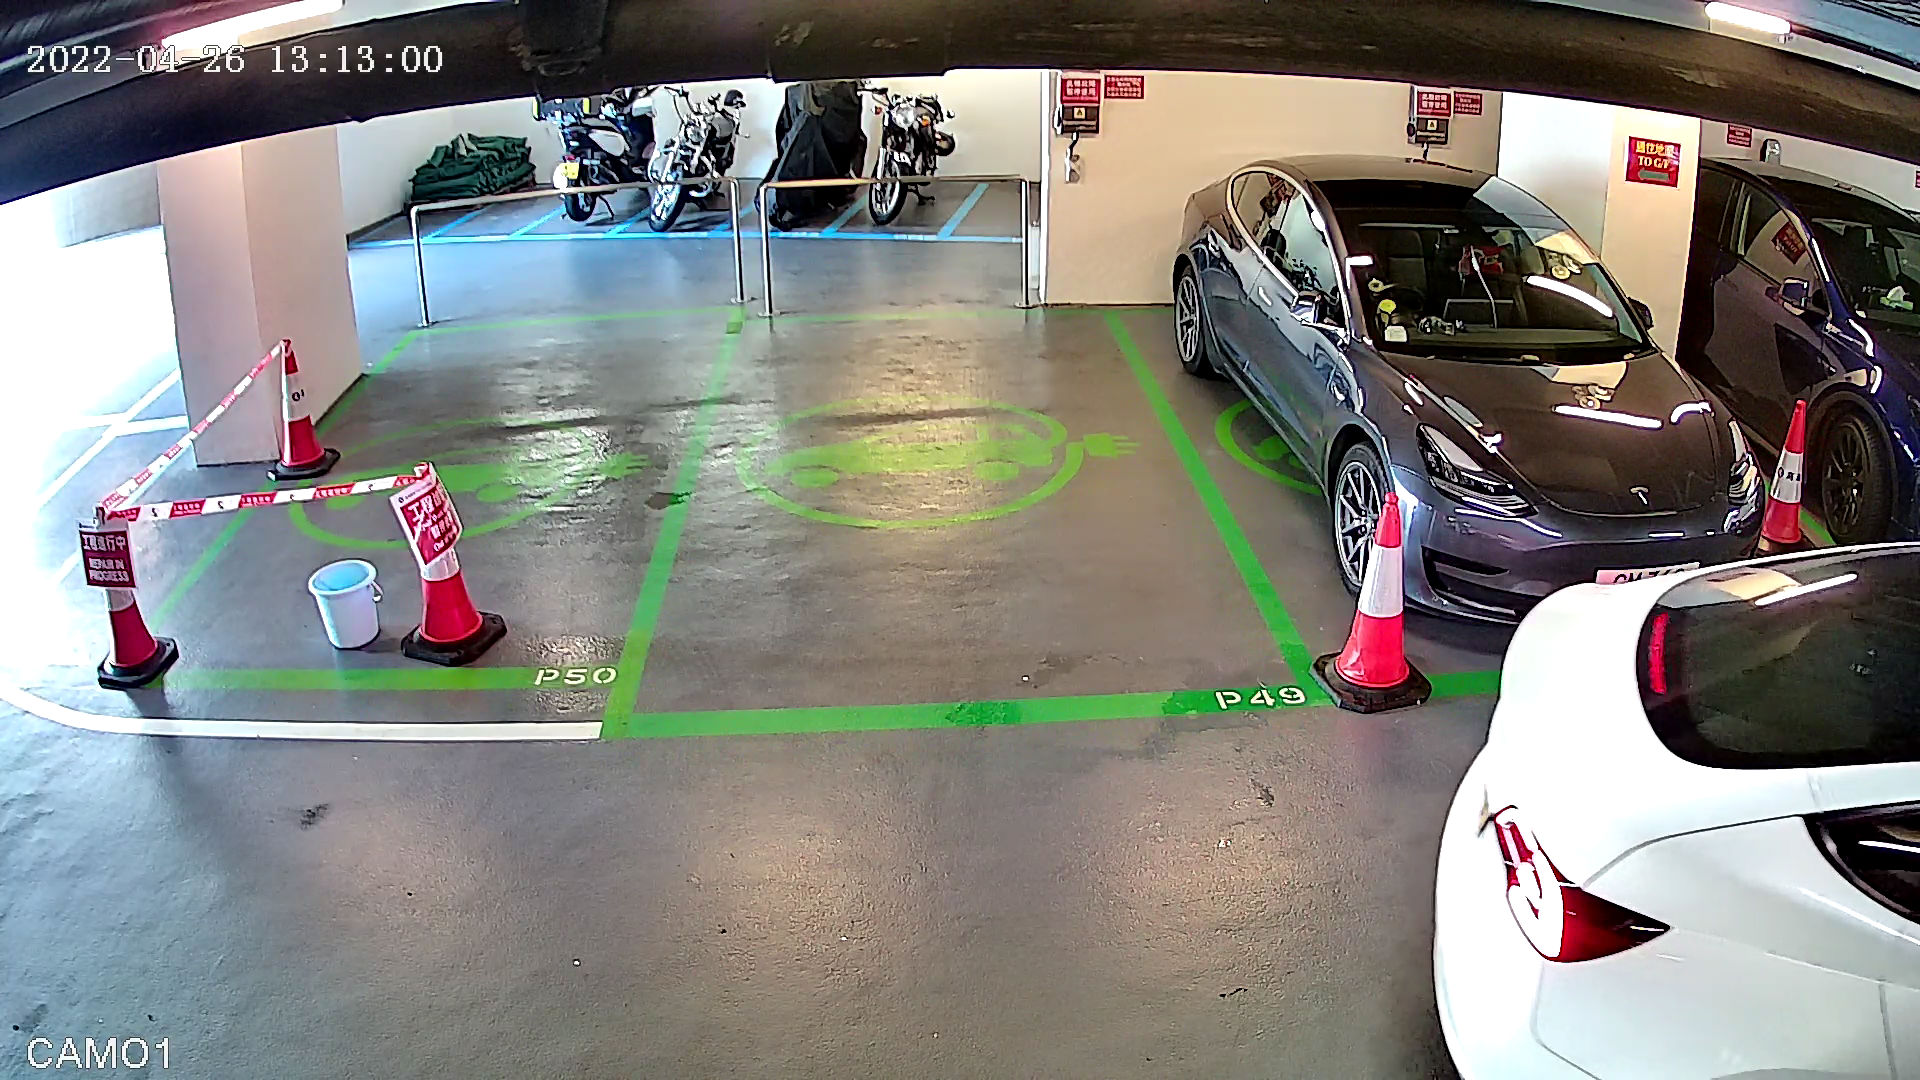car: (1160, 131, 1797, 657)
space: (568, 272, 1352, 761)
